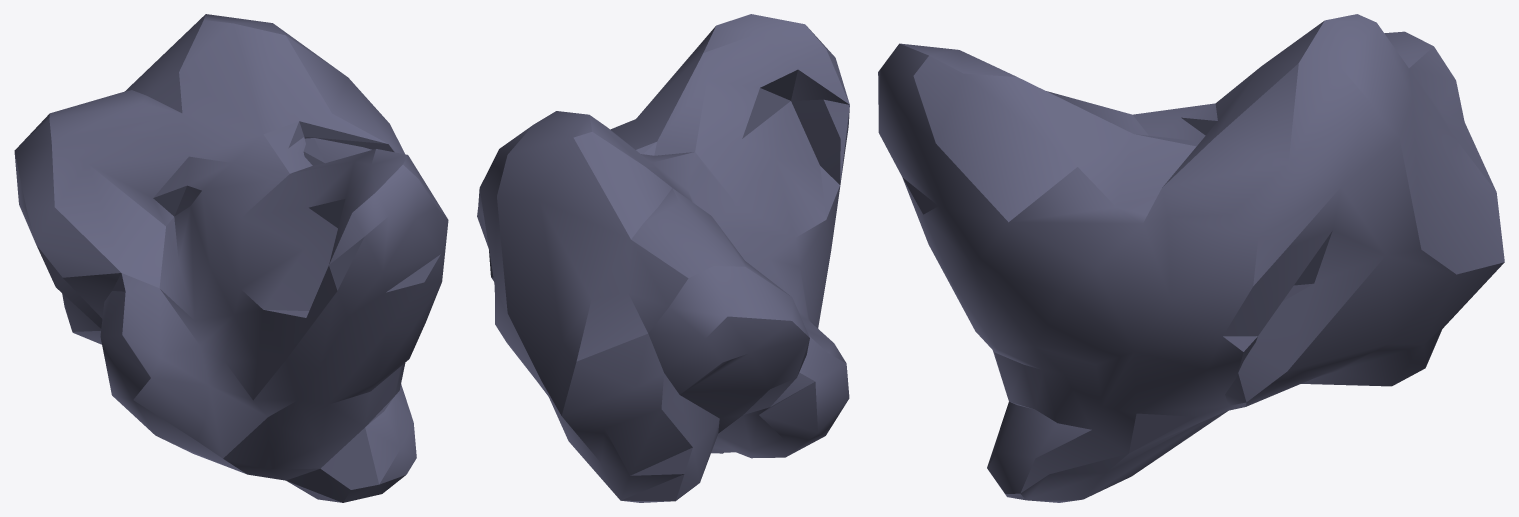
Rendered from rock_5.fbx.
3 renders of one model, left to right at view 1: azimuth 30°, elevation 25°; view 2: azimuth 150°, elevation 25°; view 3: azimuth 270°, elevation 25°, orthographic. The views are drawn at different scales.
Visible parts, largest first — view 1: Cube; view 2: Cube; view 3: Cube.
Part boxes in pixels (<box>): Cube: <box>14,14,448,502</box>; Cube: <box>477,14,849,502</box>; Cube: <box>878,14,1504,502</box>.
Bounding box in the file's own units: 8.43 × 9.35 × 10.98.
